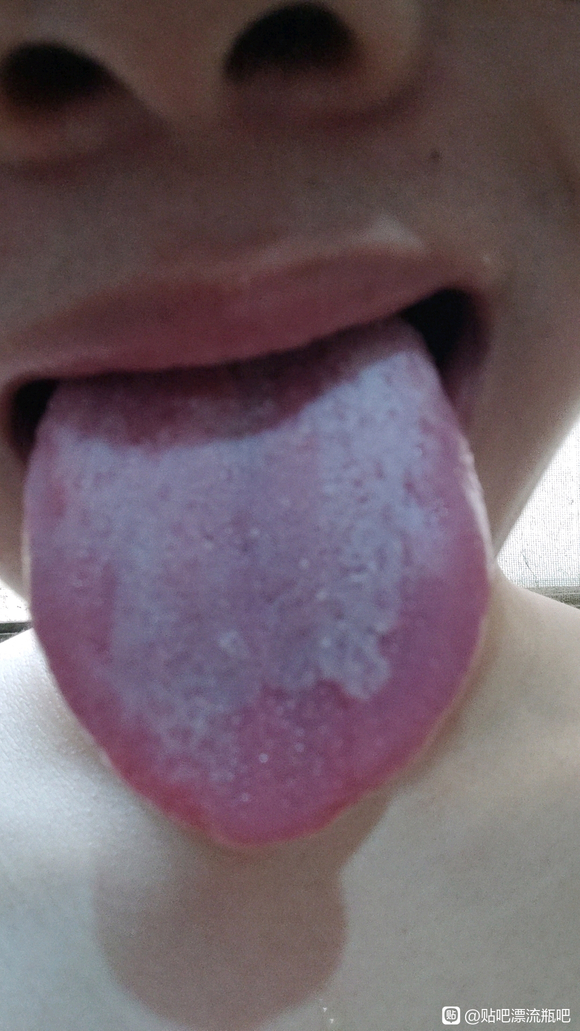baitaishe: (22, 312, 494, 842)
botaishe: (223, 549, 480, 801), (27, 431, 132, 695)
hongshe: (22, 312, 494, 842)
